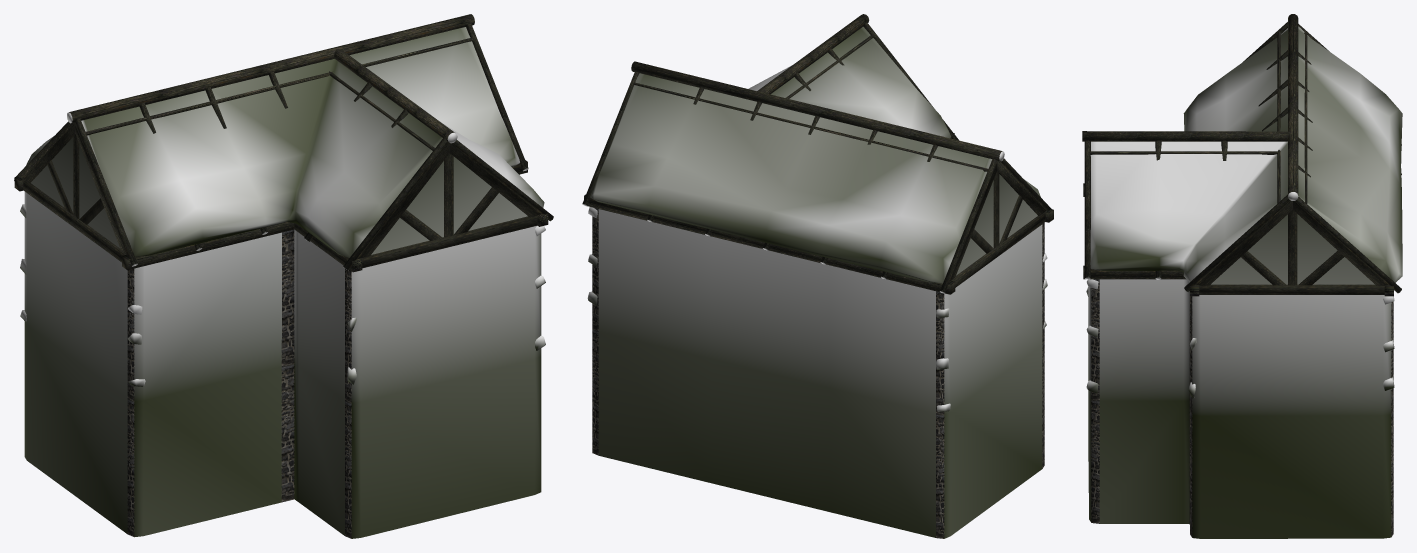
File: ex_nord_house_02.dae
3 renders of one model, left to right at view 1: azimuth 30°, elevation 25°; view 2: azimuth 150°, elevation 25°; view 3: azimuth 270°, elevation 25°, orthographic. The views are drawn at different scales.
Parts seen in each view (by area): view 1: nifid_20-matrix, nifid_28-matrix, nifid_1-matrix, nifid_11-matrix, nifid_6-matrix, nifid_32-matrix; view 2: nifid_20-matrix, nifid_28-matrix, nifid_1-matrix, nifid_6-matrix, nifid_11-matrix, nifid_32-matrix; view 3: nifid_20-matrix, nifid_28-matrix, nifid_1-matrix, nifid_11-matrix, nifid_6-matrix, nifid_32-matrix.
Part boxes in pixels (x1,y1,x2,y2): nifid_20-matrix: (27, 137, 534, 537); nifid_28-matrix: (26, 27, 544, 257); nifid_1-matrix: (14, 14, 553, 272); nifid_11-matrix: (24, 191, 541, 538); nifid_6-matrix: (127, 229, 351, 538); nifid_32-matrix: (20, 204, 545, 386); nifid_20-matrix: (598, 174, 1042, 537); nifid_28-matrix: (590, 26, 1040, 283); nifid_1-matrix: (582, 14, 1053, 294); nifid_6-matrix: (592, 208, 1044, 538); nifid_11-matrix: (944, 293, 950, 538); nifid_32-matrix: (587, 207, 1047, 412); nifid_20-matrix: (1088, 214, 1382, 538); nifid_28-matrix: (1090, 26, 1402, 282); nifid_1-matrix: (1082, 14, 1401, 296); nifid_11-matrix: (1089, 279, 1391, 538); nifid_6-matrix: (1091, 279, 1393, 537); nifid_32-matrix: (1086, 279, 1394, 398).
Bounding box in the file's own units: 794 × 605 × 728.
Materials: 4 (3 with a texture image).
